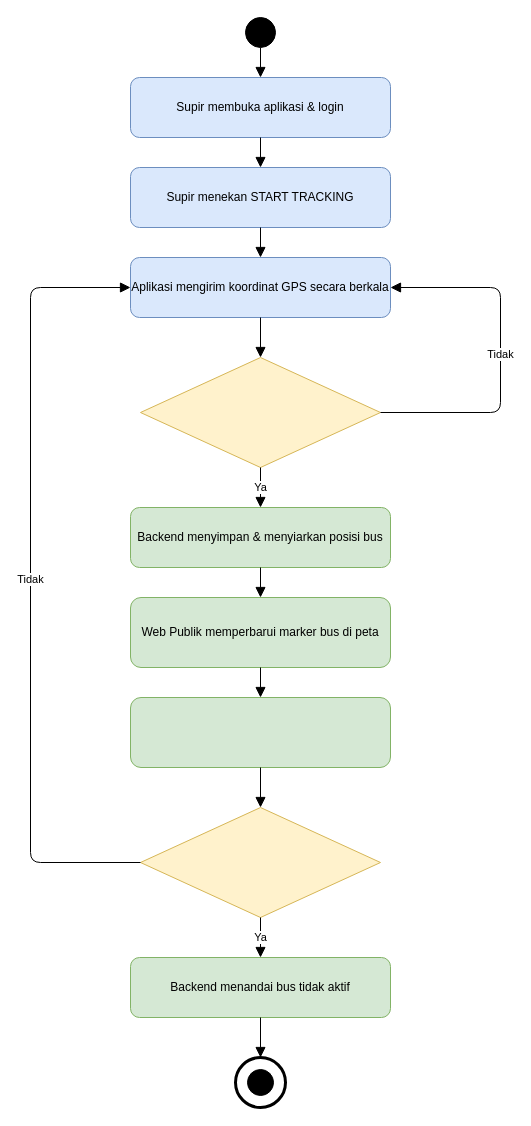
Some shapes in this 531 by 1126 pixel diagram are drawn without their labels. Each missing label, with the centre of its shape:
Bus berada di area kampus?: point 260,412
Mahasiswa melihat posisi bus terbaru: point 260,732
Supir menekan STOP TRACKING?: point 260,862
